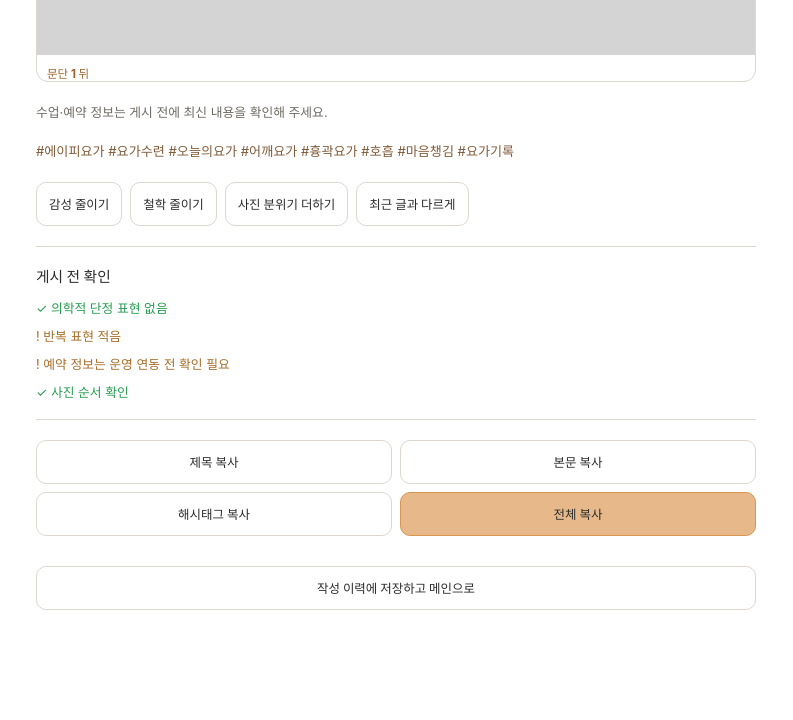
it: studio generation flow › stays on the result screen when saving history fails
(page scrolled)
Click the button "작성 이력에 저장하고 메인으로" at (396,588), box [36, 566, 756, 610]
(page scrolled)
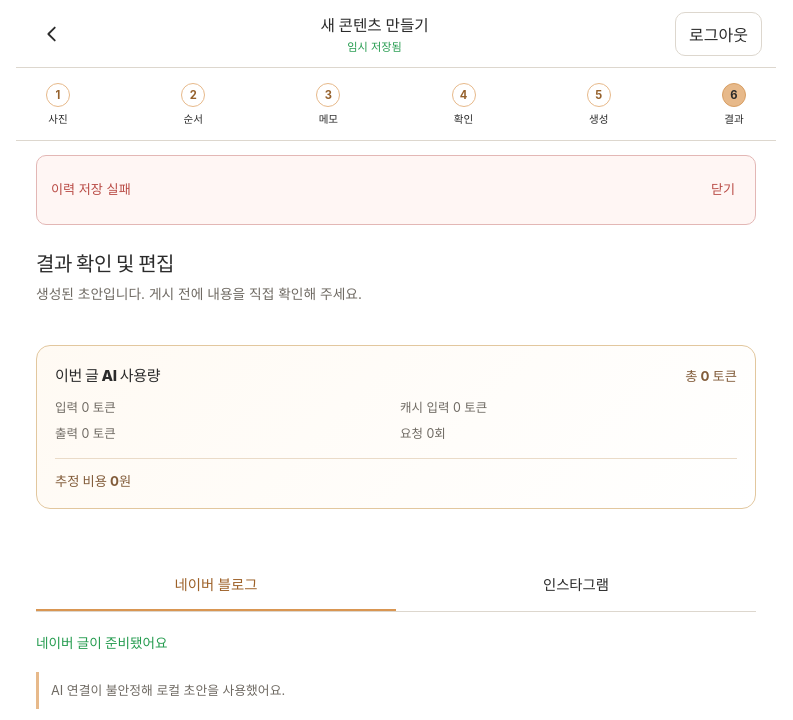
Result: the message "이력 저장 실패 닫기" is shown at [36, 155, 756, 225]
